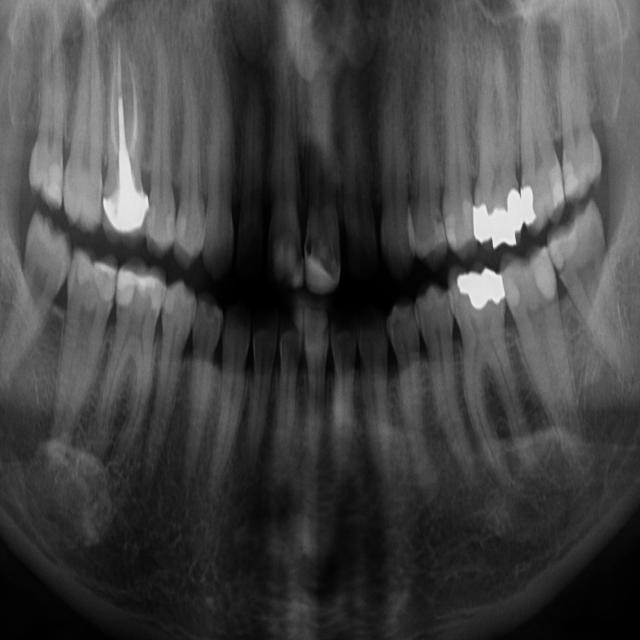dentin-curugu: (347, 231, 376, 274), (305, 228, 319, 256)
dolgu: (453, 266, 508, 310), (473, 192, 514, 248), (120, 265, 157, 307), (304, 257, 334, 294), (94, 261, 118, 303), (515, 187, 541, 224)
kanal-tedavisi: (105, 48, 152, 188)
kaplama: (105, 185, 152, 231)
